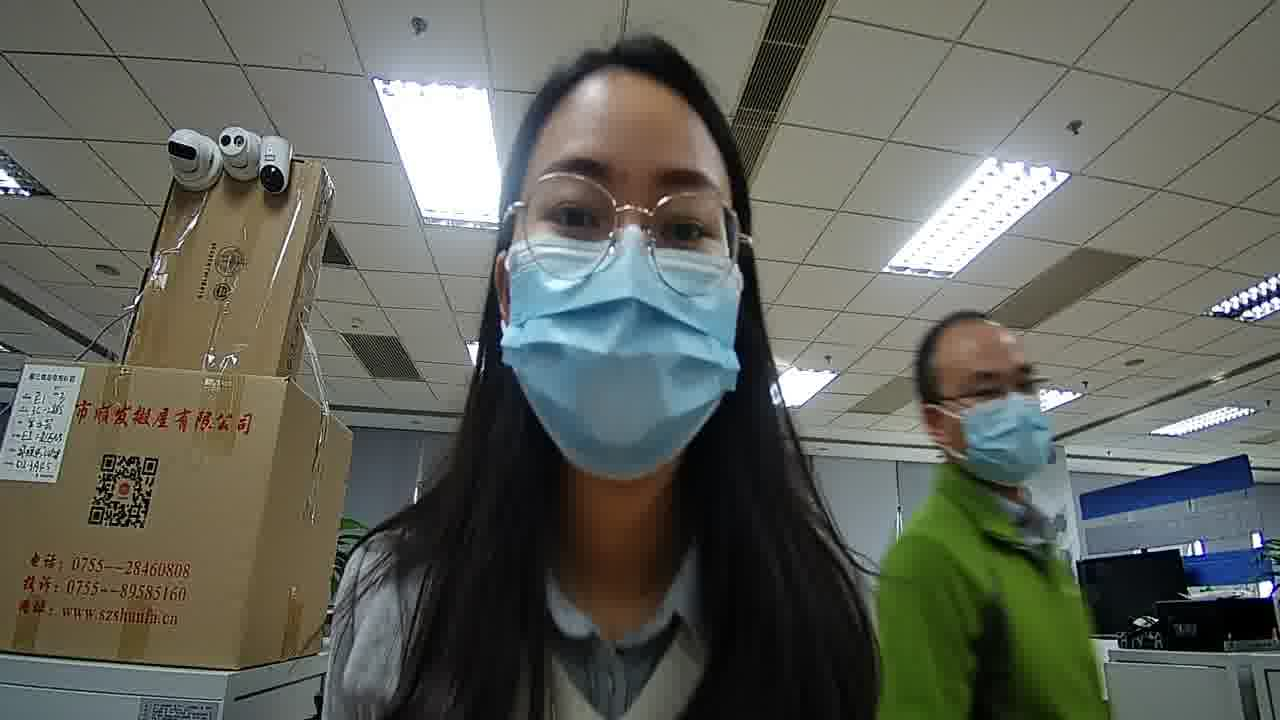face: (508, 95, 742, 484), (935, 348, 1058, 486)
mask: (504, 243, 742, 480), (957, 395, 1055, 491)
person: (323, 51, 887, 720), (871, 324, 1076, 593)
